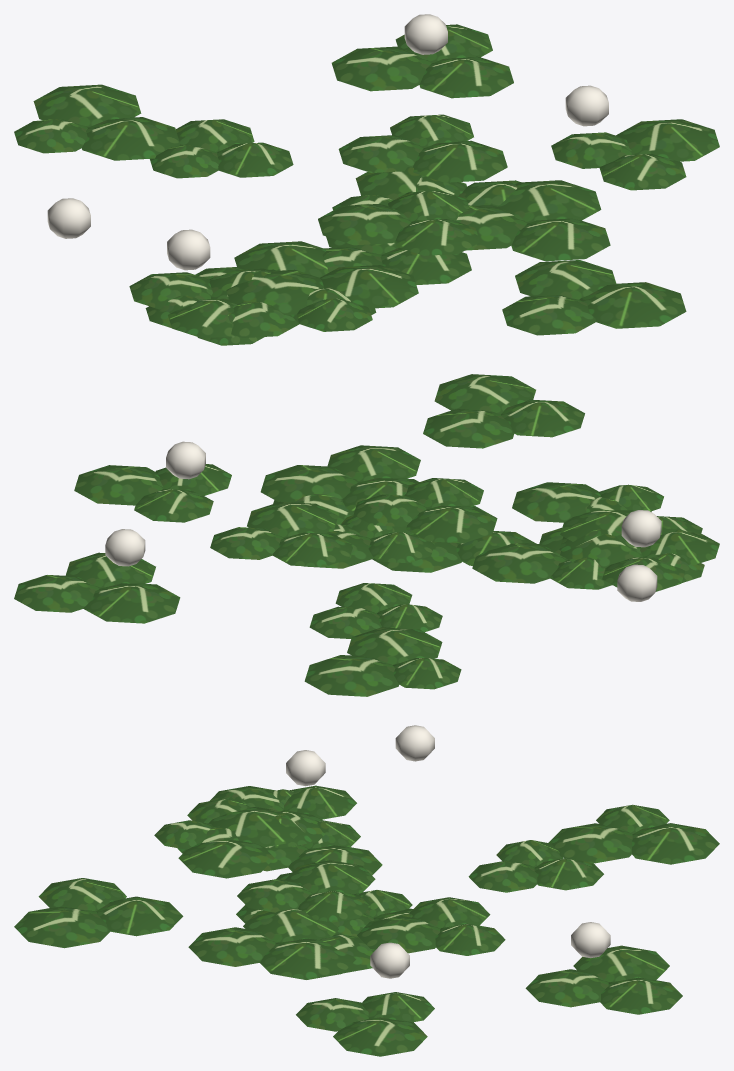
File: clover_patch.glb
3 renders of one model, top to bottom at view 1: azimuth 30°, elevation 25°; view 2: azimuth 150°, elevation 25°; view 3: azimuth 270°, elevation 25°, orthographic. The views are drawn at different scales.
Visible parts, largest first — view 1: model; view 2: model; view 3: model.
Part boxes in pixels (bbox=[...]): model: bbox=[14, 14, 719, 345]; model: bbox=[14, 374, 719, 696]; model: bbox=[14, 725, 719, 1056].
Size of the model in its own units: 0.948 by 0.1072 by 1.02.
2 materials, 1 textured.
